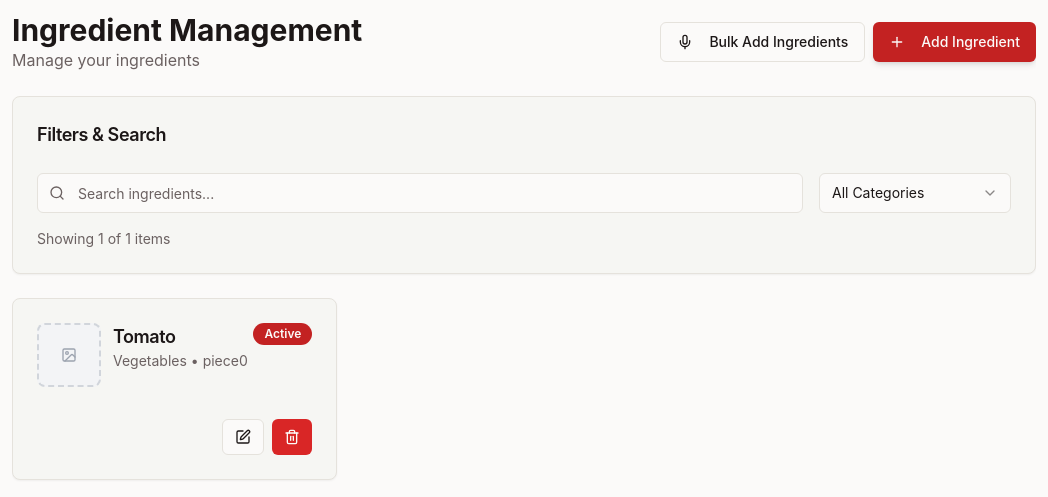
IngredientManagement › should display no results state when search yields no results
The width and height of the screenshot is (1048, 497).
Expected: the heading "Tomato" is shown, left=113, top=326, right=175, bottom=347
Type "nonexistent" into the field with placeholder "Search ingredients...".
click(420, 193); type("nonexistent")  # box left=37, top=173, right=803, bottom=213
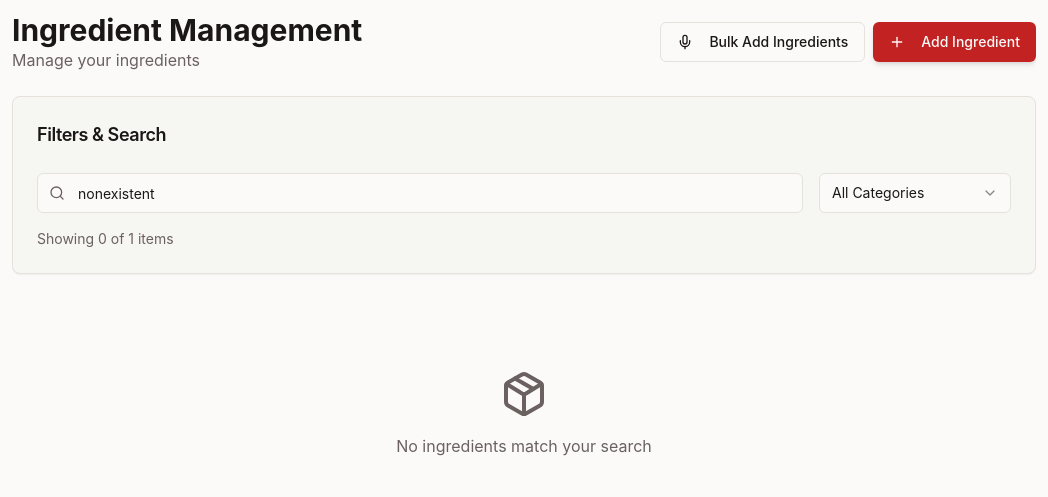
Result: the text "No ingredients match your search" is shown at left=396, top=436, right=652, bottom=456
